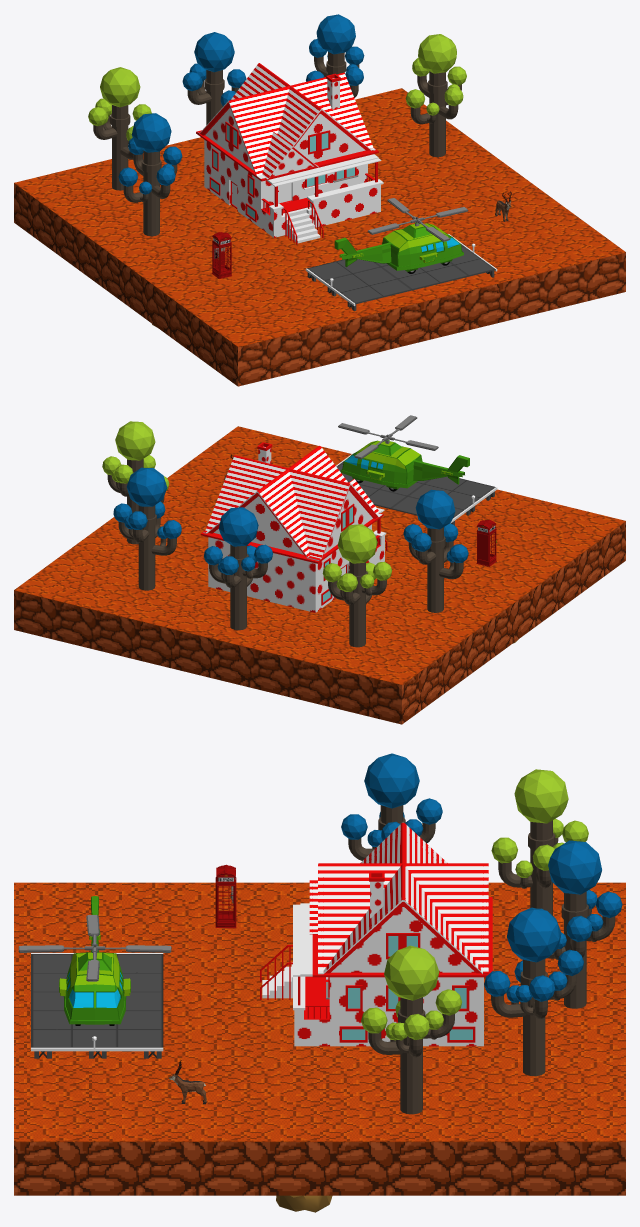
3 renders of one model, top to bottom at view 1: azimuth 30°, elevation 25°; view 2: azimuth 150°, elevation 25°; view 3: azimuth 270°, elevation 25°, orthographic. The views are drawn at different scales.
Visible parts, largest first — view 1: Cube.001, Cube.196, VEHICLES_HELICOPTER, OBJRANDOM_PHONEBOOTH; view 2: Cube.001, Cube.196, VEHICLES_HELICOPTER, OBJRANDOM_PHONEBOOTH; view 3: Cube.001, Cube.196, VEHICLES_HELICOPTER, OBJRANDOM_PHONEBOOTH, UNDERGROUND_T_REX_BONES.
Boxes of the visible parts, x1=… form: Cube.001: x1=14, y1=14, x2=625, y2=386; Cube.196: x1=196, y1=63, x2=383, y2=244; VEHICLES_HELICOPTER: x1=334, y1=198, x2=468, y2=273; OBJRANDOM_PHONEBOOTH: x1=212, y1=232, x2=231, y2=278; Cube.001: x1=14, y1=421, x2=625, y2=724; Cube.196: x1=200, y1=442, x2=387, y2=612; VEHICLES_HELICOPTER: x1=338, y1=415, x2=469, y2=491; OBJRANDOM_PHONEBOOTH: x1=476, y1=519, x2=496, y2=566; Cube.001: x1=14, y1=753, x2=625, y2=1195; Cube.196: x1=260, y1=822, x2=492, y2=1046; VEHICLES_HELICOPTER: x1=18, y1=896, x2=171, y2=1025; OBJRANDOM_PHONEBOOTH: x1=215, y1=864, x2=236, y2=928; UNDERGROUND_T_REX_BONES: x1=276, y1=1195, x2=332, y2=1212.
Size of the model in its own units: 4000 by 1777 by 4000.
39 materials, 5 textured.
